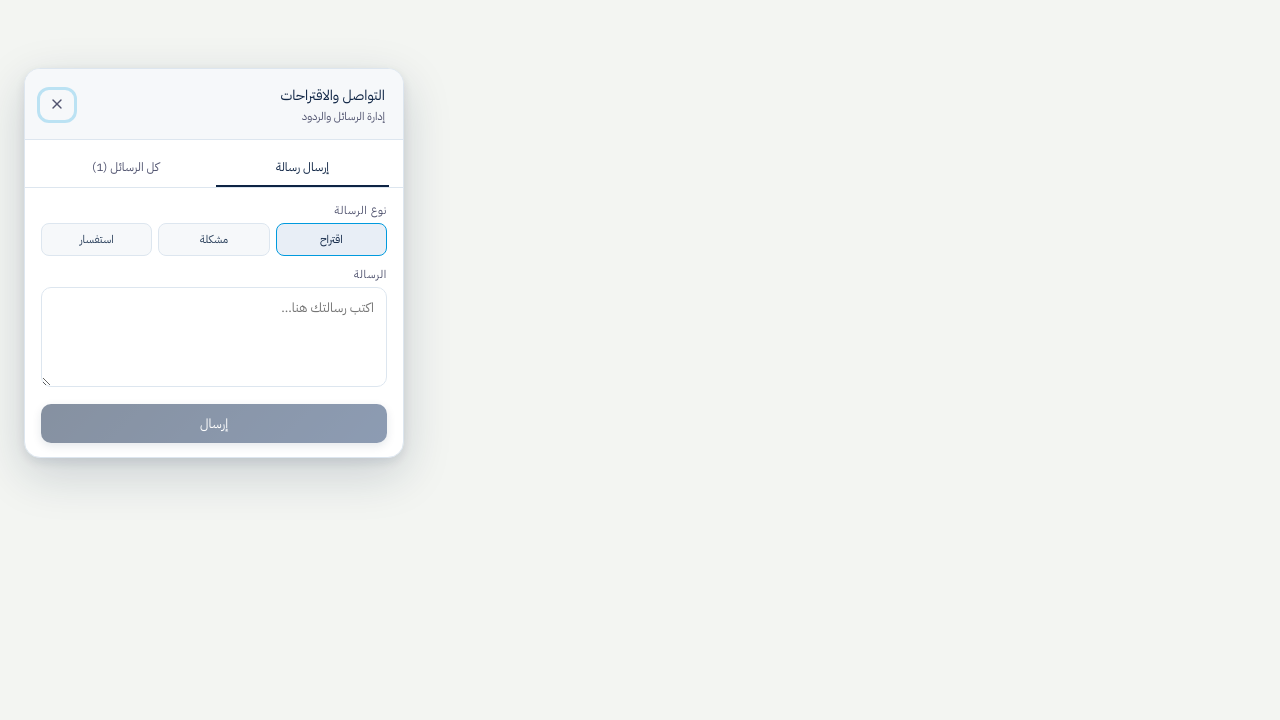
Test: FeedbackWidget — admin export › reports an empty export as empty
This screenshot has width=1280, height=720.
Click the button "كل الرسائل (1)" at point(126, 168), box [39,150,212,187]
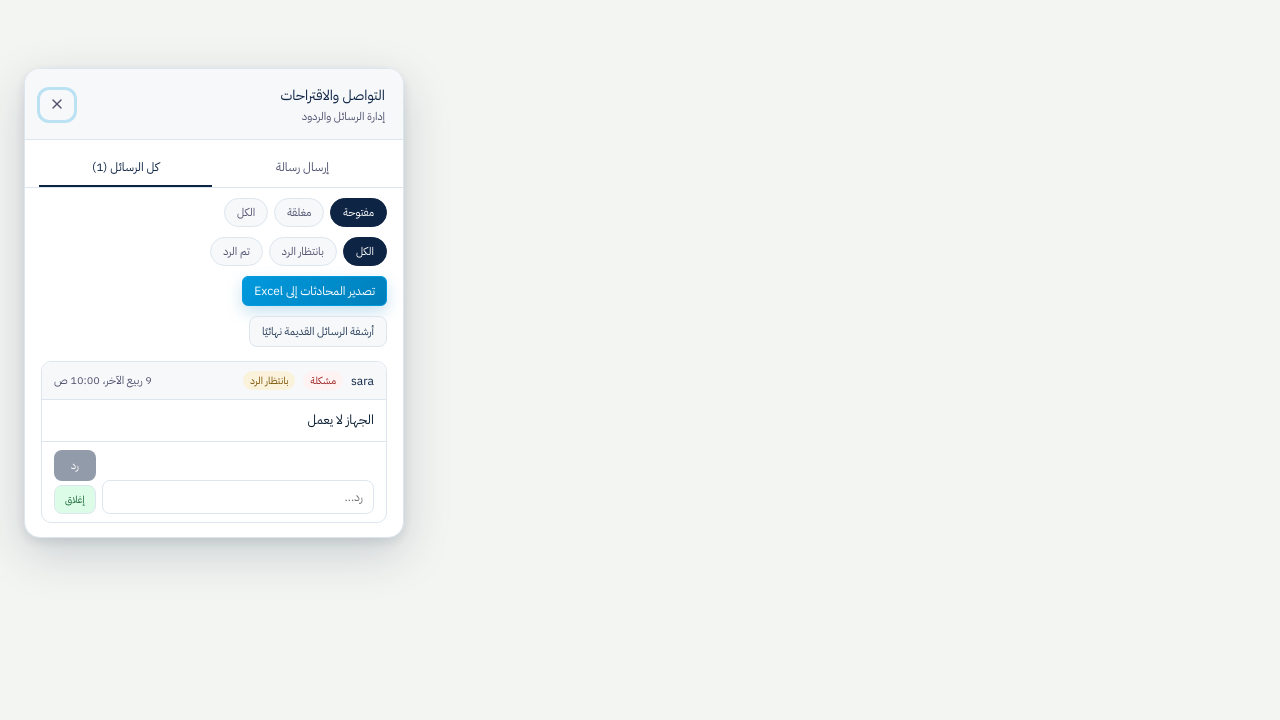
Expected: the text "الجهاز لا يعمل" is shown, [308,410,374,429]
Click the button "تصدير المحادثات إلى Excel" at point(315, 291), box [242,276,387,306]
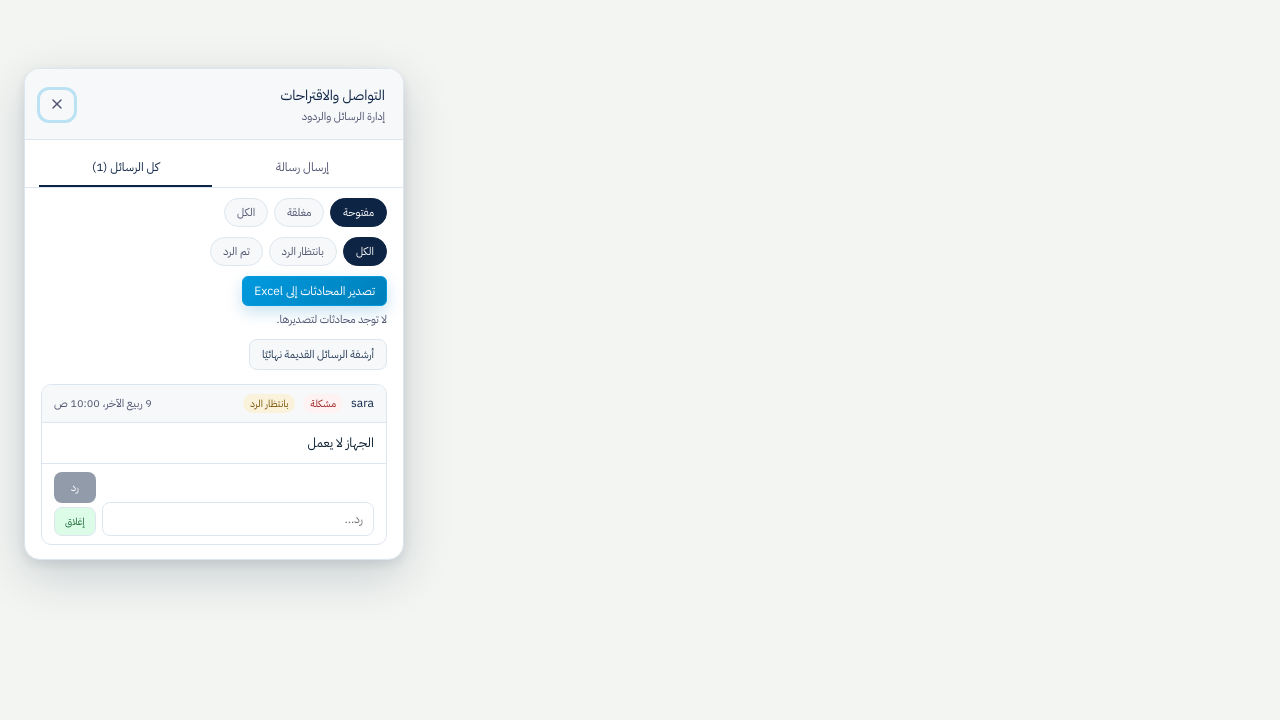
Expected: the message reads "لا توجد محادثات لتصديرها.", [276,311,387,328]
